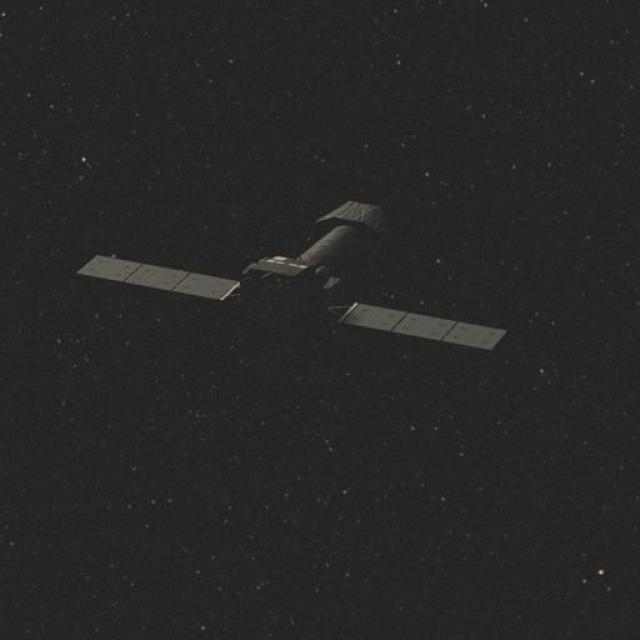xmm_newton: (95, 192, 535, 358)
